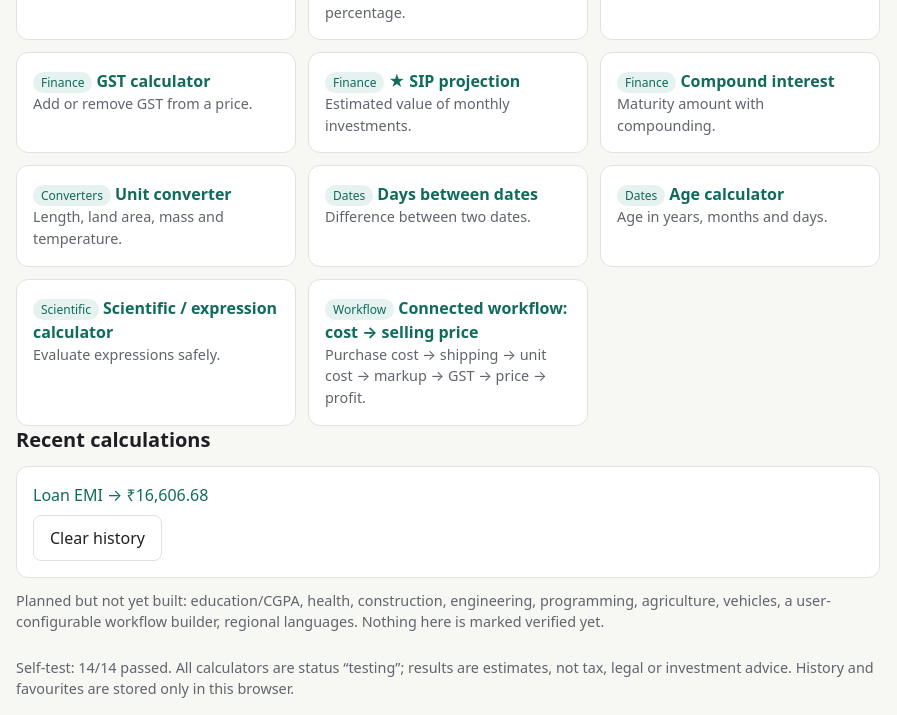
app integration › home reads persisted history and favourites after a reload, and clears history
(page scrolled)
Expected: the link "Loan EMI → ₹16,606.68" is shown, [33,484,208,506]
Click the button "Clear history": click(97, 538) [33,514,162,560]
(page scrolled)
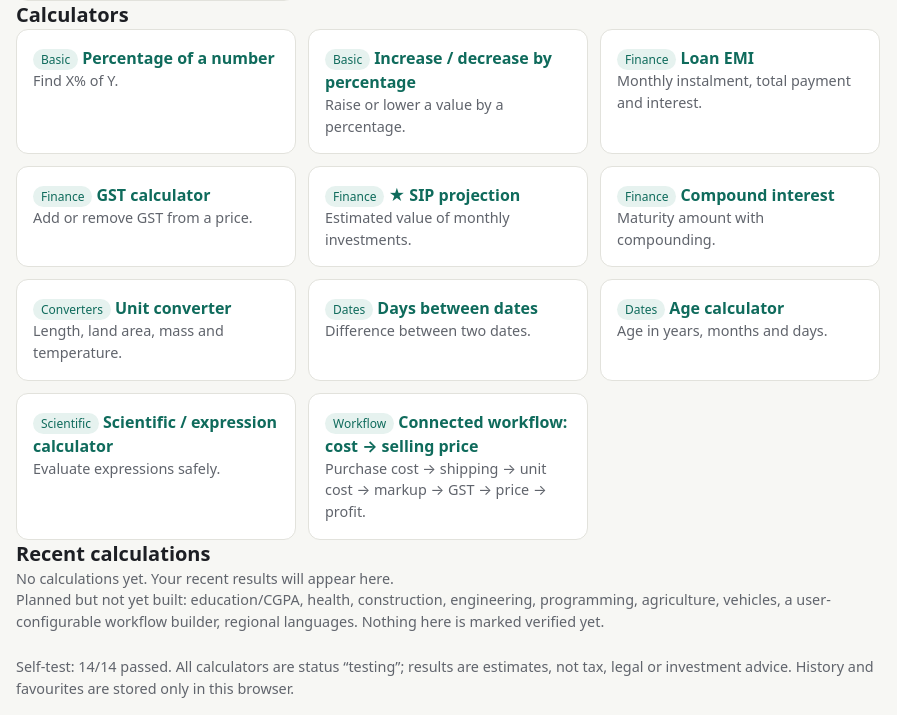
Expected: the text "No calculations yet. Your recent results will appear here." is shown, [16,568,394,588]
